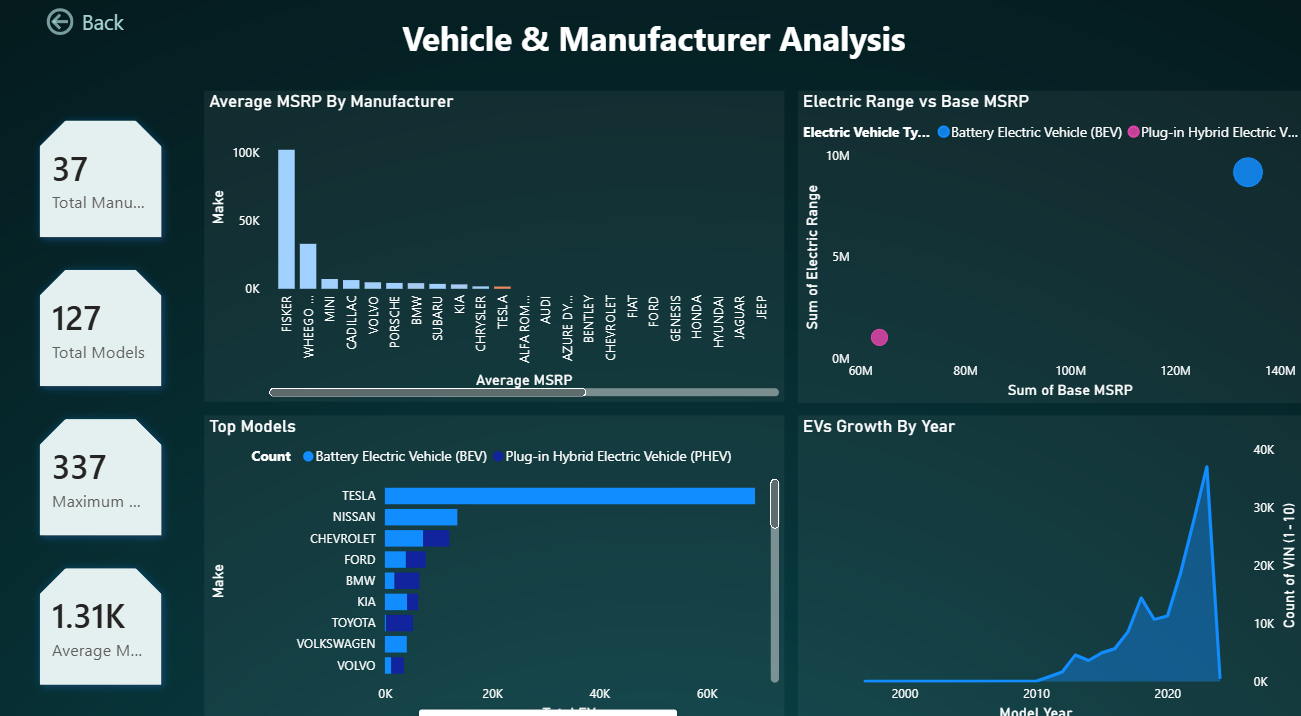

Layout of this report page (visuals, bound fields, positions):
{"tool":"powerbi","page":{"name":"Vehicle & Manufacturer Analysis","canvas":[1280,720],"ordinal":2},"visuals":[{"type":"shape","box":[13.5,14.8,1254.9,48.5],"z":0},{"type":"textbox","box":[389.5,14.8,504.1,59.3],"z":1000},{"type":"scatterChart","title":"Electric Range vs Base MSRP","fields":{"X":["Sum(Electric Vehicle Population_cleaned.Base MSRP)"],"Y":["Sum(Electric Vehicle Population_cleaned.Electric Range)"],"Series":["Electric Vehicle Population_cleaned.Electric Vehicle Type"],"Size":["CountNonNull(Electric Vehicle Population_cleaned.VIN (1-10))"]},"box":[779.1,93,489.3,303.3],"z":2000},{"type":"clusteredColumnChart","title":"Average MSRP By Manufacturer","fields":{"Category":["Electric Vehicle Population_cleaned.Make"],"Y":["Fact Table.Average MSRP"]},"box":[202.2,93,563.4,301.9],"z":3000},{"type":"barChart","title":"Top Models","fields":{"Series":["Electric Vehicle Population_cleaned.Electric Vehicle Type"],"Category":["Electric Vehicle Population_cleaned.Make"],"Y":["CountNonNull(Electric Vehicle Population_cleaned.VIN (1-10))"]},"box":[202.2,408.4,563.4,301.9],"z":4000},{"type":"cardVisual","fields":{"Data":["Electric Vehicle Population_cleaned.Total Manufacturers","Electric Vehicle Population_cleaned.Total Models","Fact Table.Maximum Electric Range","Fact Table.Average MSRP"]},"box":[13.5,93,176.6,606.6],"z":5000},{"type":"areaChart","title":"EVs Growth By Year","fields":{"Category":["Electric Vehicle Population_cleaned.Model Year"],"Y2":["CountNonNull(Electric Vehicle Population_cleaned.VIN (1-10))"]},"box":[779.1,408.4,489.3,301.9],"z":6000},{"type":"actionButton","box":[36.4,0,99.7,51.2],"z":7000}]}

Visuals, with their boxes in screenshot pixels (x1, y1, x2, y2), scaled from the page's 1280x720 canvas onto the 1301x716 screenshot:
shape: {"left": 14, "top": 15, "right": 1289, "bottom": 63}
textbox: {"left": 396, "top": 15, "right": 908, "bottom": 74}
"Electric Range vs Base MSRP" scatterChart: {"left": 792, "top": 92, "right": 1289, "bottom": 394}
"Average MSRP By Manufacturer" clusteredColumnChart: {"left": 206, "top": 92, "right": 778, "bottom": 393}
"Top Models" barChart: {"left": 206, "top": 406, "right": 778, "bottom": 706}
cardVisual - Electric Vehicle Population_cleaned.Total Manufacturers x Electric Vehicle Population_cleaned.Total Models: {"left": 14, "top": 92, "right": 193, "bottom": 696}
"EVs Growth By Year" areaChart: {"left": 792, "top": 406, "right": 1289, "bottom": 706}
actionButton: {"left": 37, "top": 0, "right": 138, "bottom": 51}
